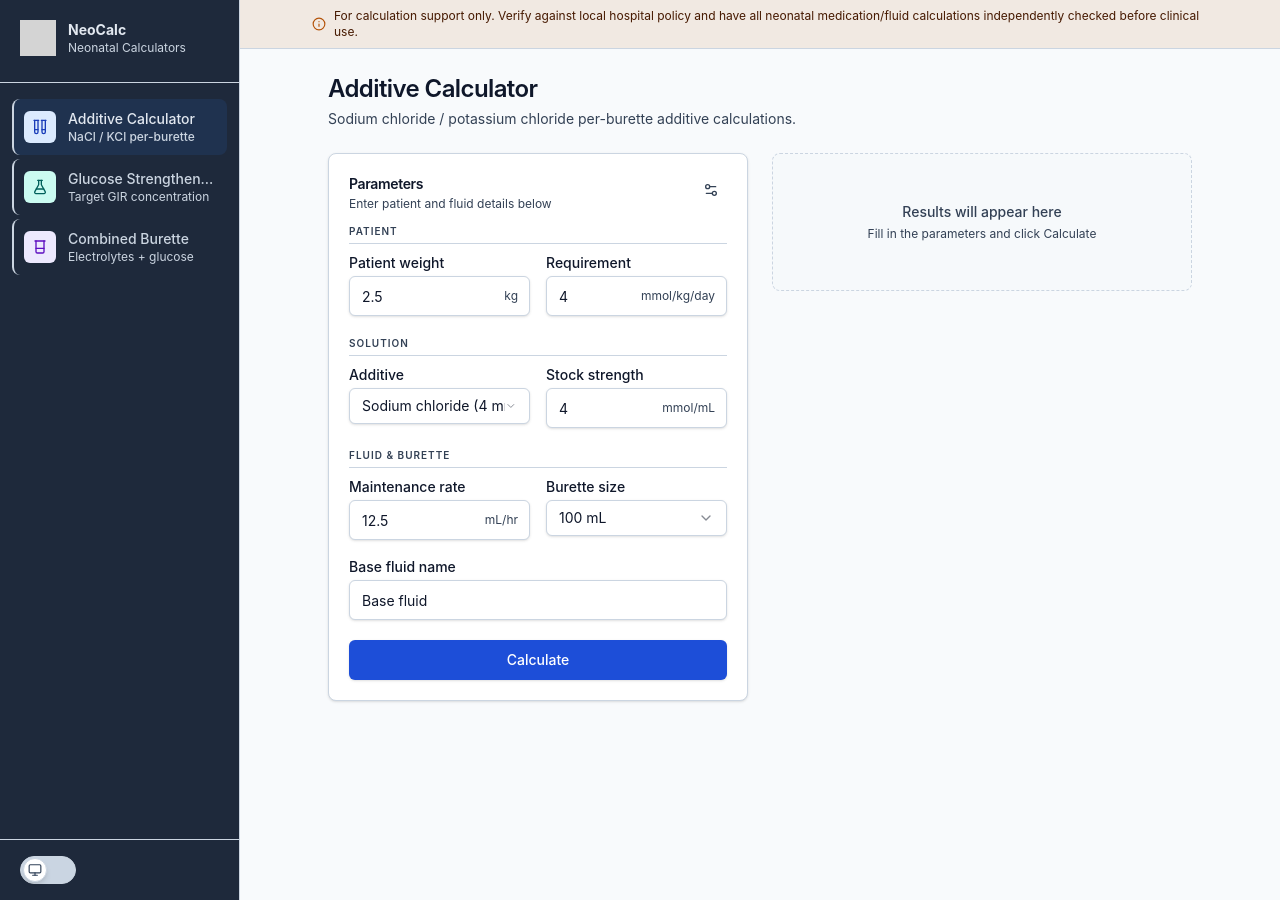
Scenario: app routing + safety banner › navigates to glucose page
Click the link "Glucose Strengthening Target GIR concentration": (120, 187) [12,159,227,215]
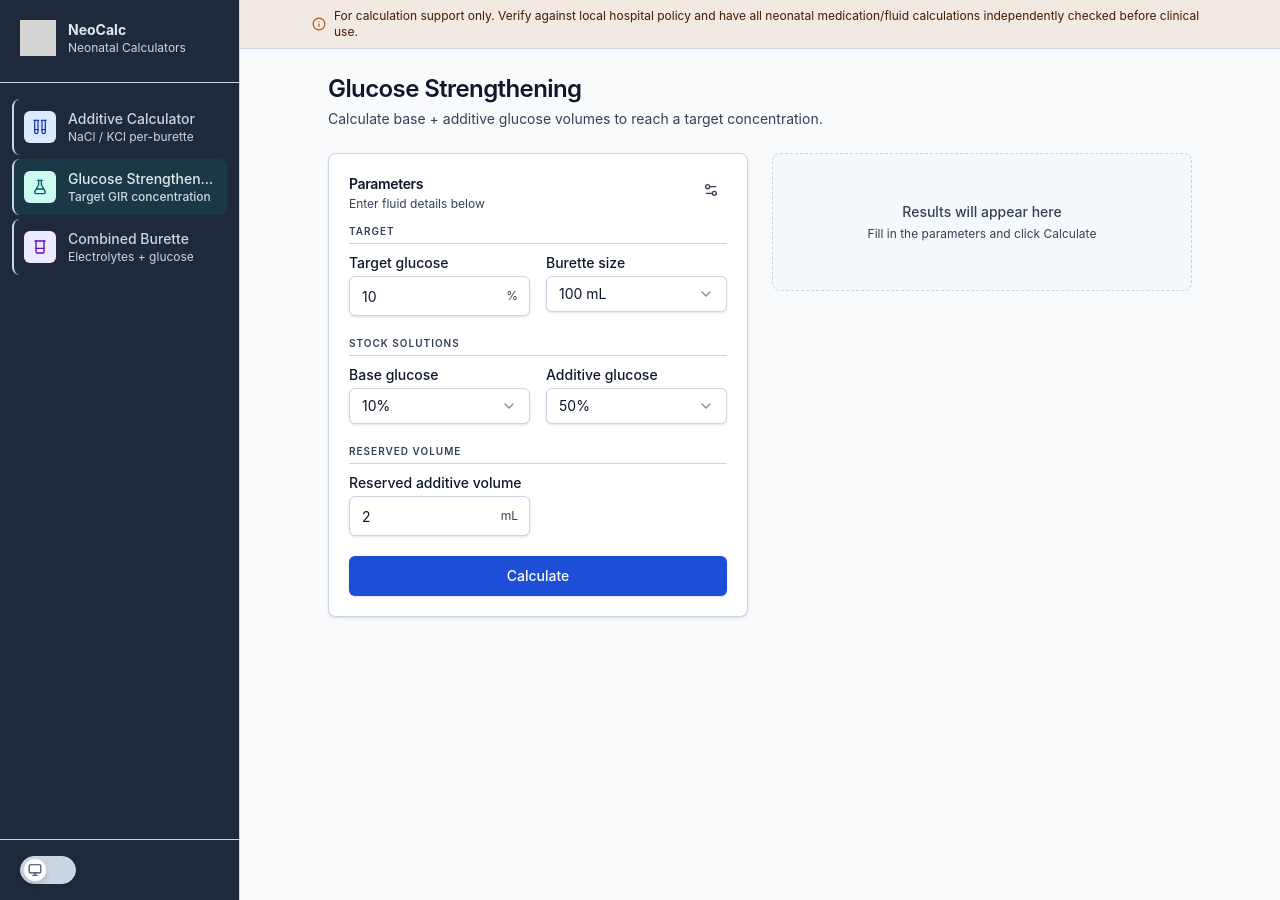
Result: the heading "Glucose Strengthening" is shown at [328,74,581,103]
